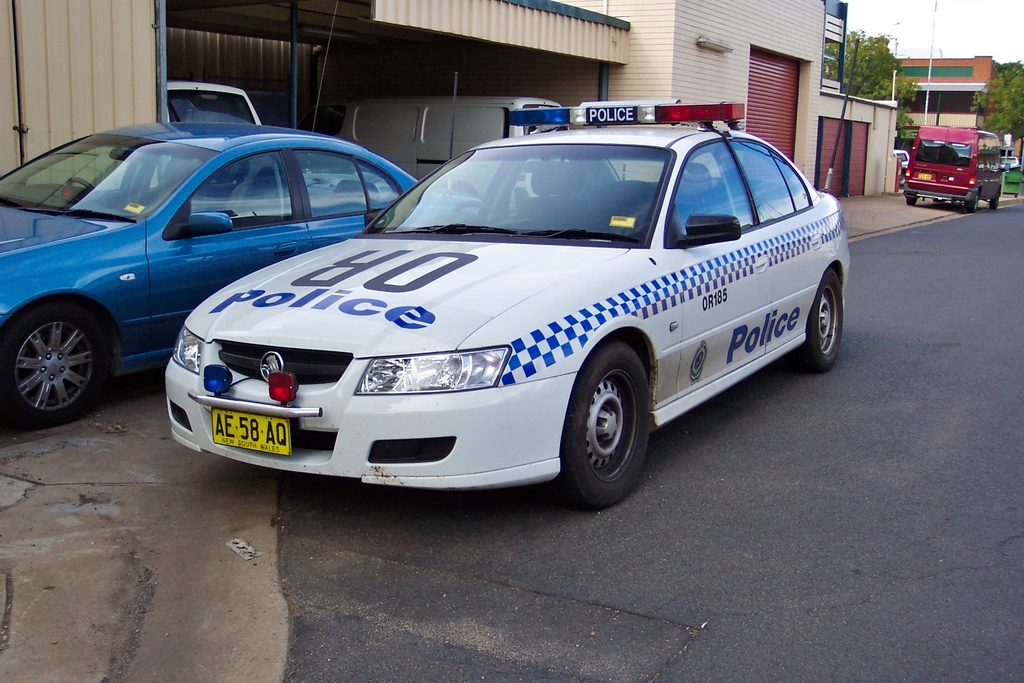cars: (148, 108, 872, 512), (0, 119, 461, 423), (892, 150, 910, 177), (1004, 157, 1017, 167)
